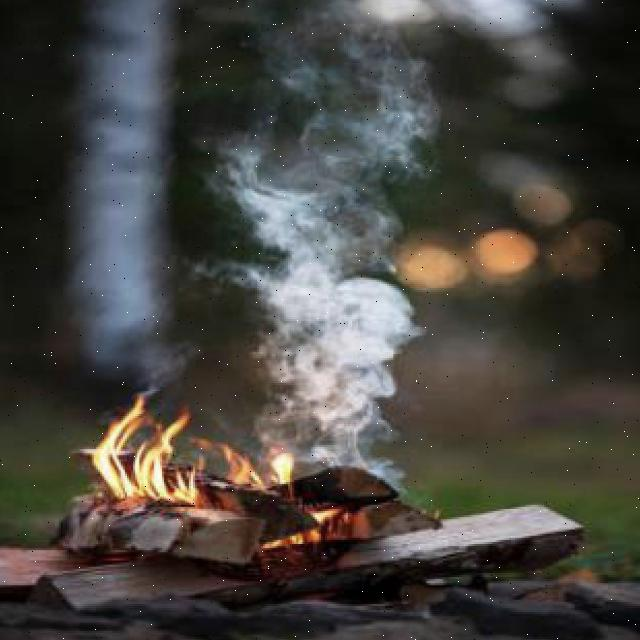fire: (71, 391, 257, 519)
smoke: (185, 0, 457, 476)
